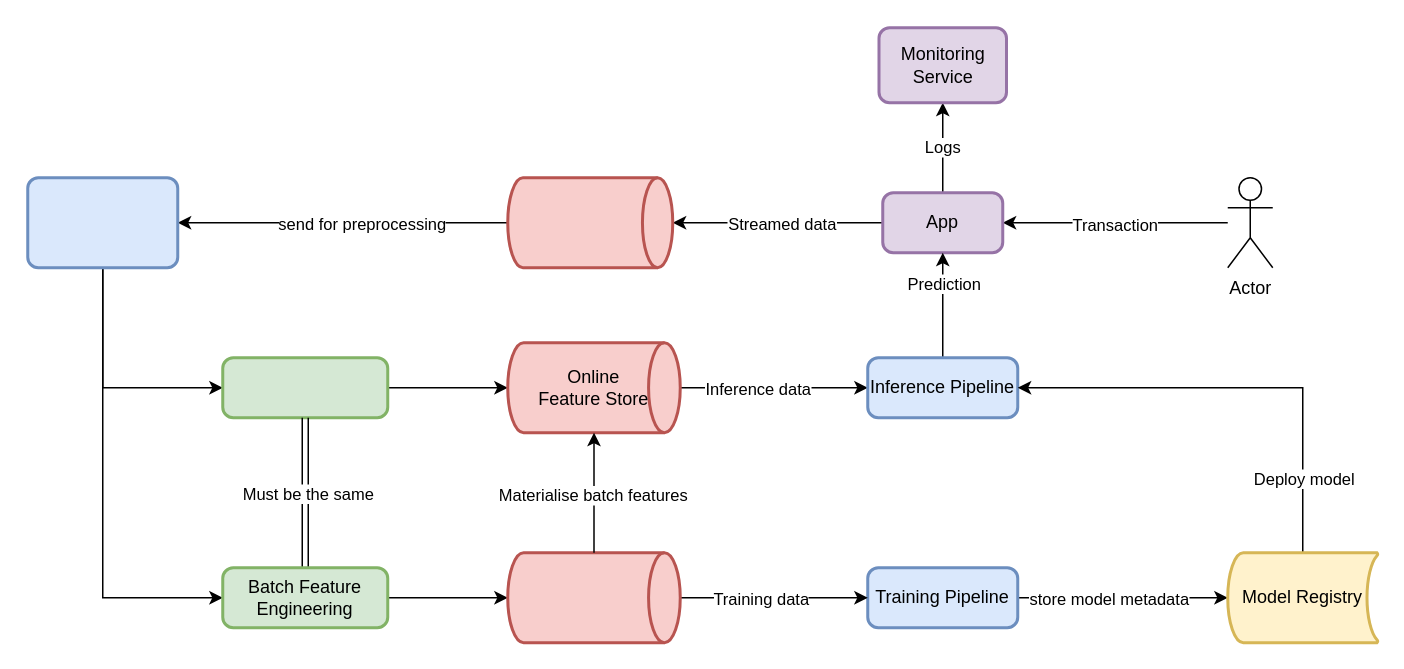
Image size: 1404x669. Some labels were removed from this diagram. The shapes that lost their labels are listed below. From the top down, each one's box as (x1, y1, x2, y2) in pixels, then its label:
(26, 176, 178, 268): Data PIpeline
(506, 176, 674, 268): Real-time transport
(220, 356, 388, 418): Streaming Feature Engineering
(506, 550, 681, 644): Offline Feature Store
